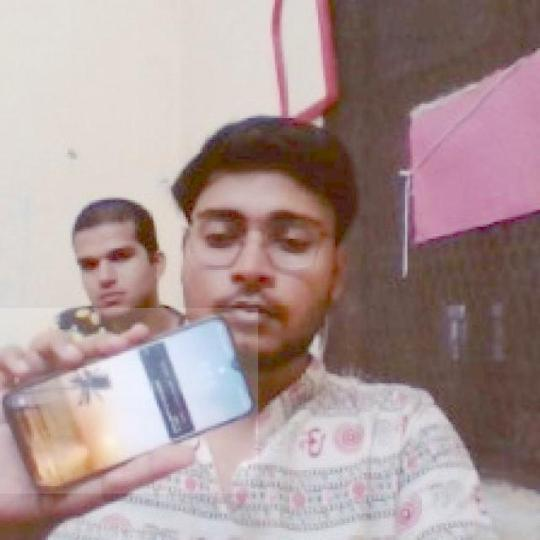phone: (3, 312, 252, 497)
